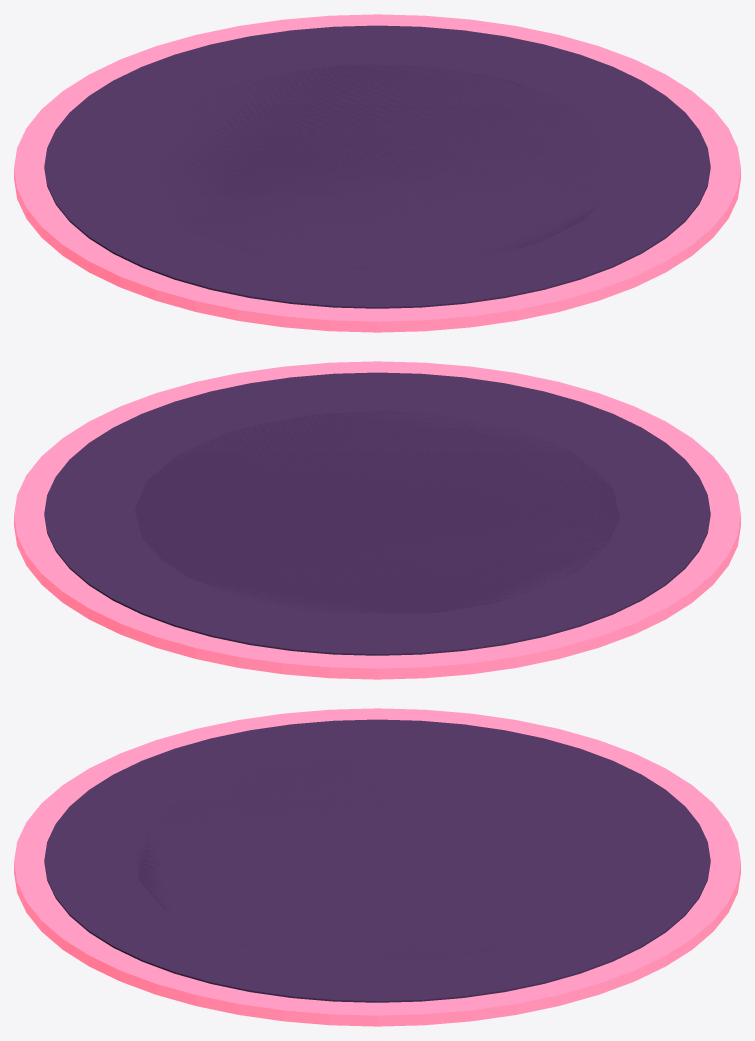
File: dgn_magic_floor.glb
The picture shows the model from 3 angles, top to bottom: view 1: azimuth 30°, elevation 25°; view 2: azimuth 150°, elevation 25°; view 3: azimuth 270°, elevation 25°; orthographic projection.
Parts seen in each view (by area): view 1: dgn_magic_floor; view 2: dgn_magic_floor; view 3: dgn_magic_floor.
Boxes of the visible parts, x1,y1,x2,y2 form: dgn_magic_floor: (14, 14, 740, 332); dgn_magic_floor: (14, 361, 740, 679); dgn_magic_floor: (14, 708, 740, 1026).
Size of the model in its own units: 2.4 by 0.05 by 2.4.
